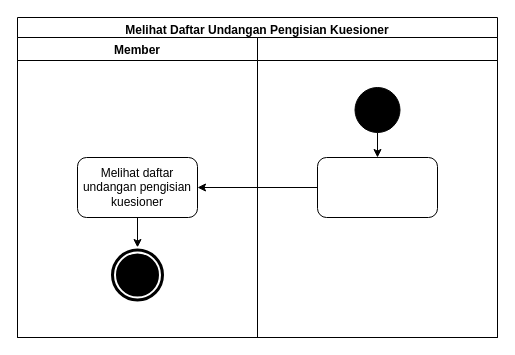
The diagram is 515 pixels wide and 355 high, and some of its shapes have lost their labels. The shapes that lost their labels are listed below. From the top down, each one's box as (x1, y1, x2, y2) in pixels, then its label:
(316, 156, 438, 218): Menampilkan halaman invitation
(256, 36, 498, 338): Sistem
